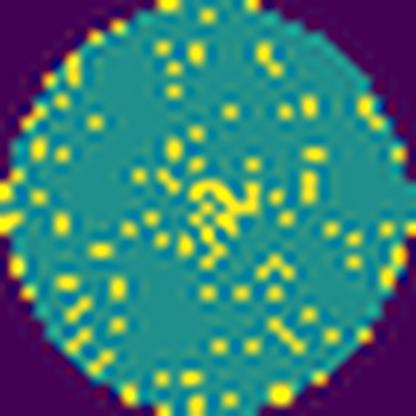Center: (188, 174, 260, 271)
